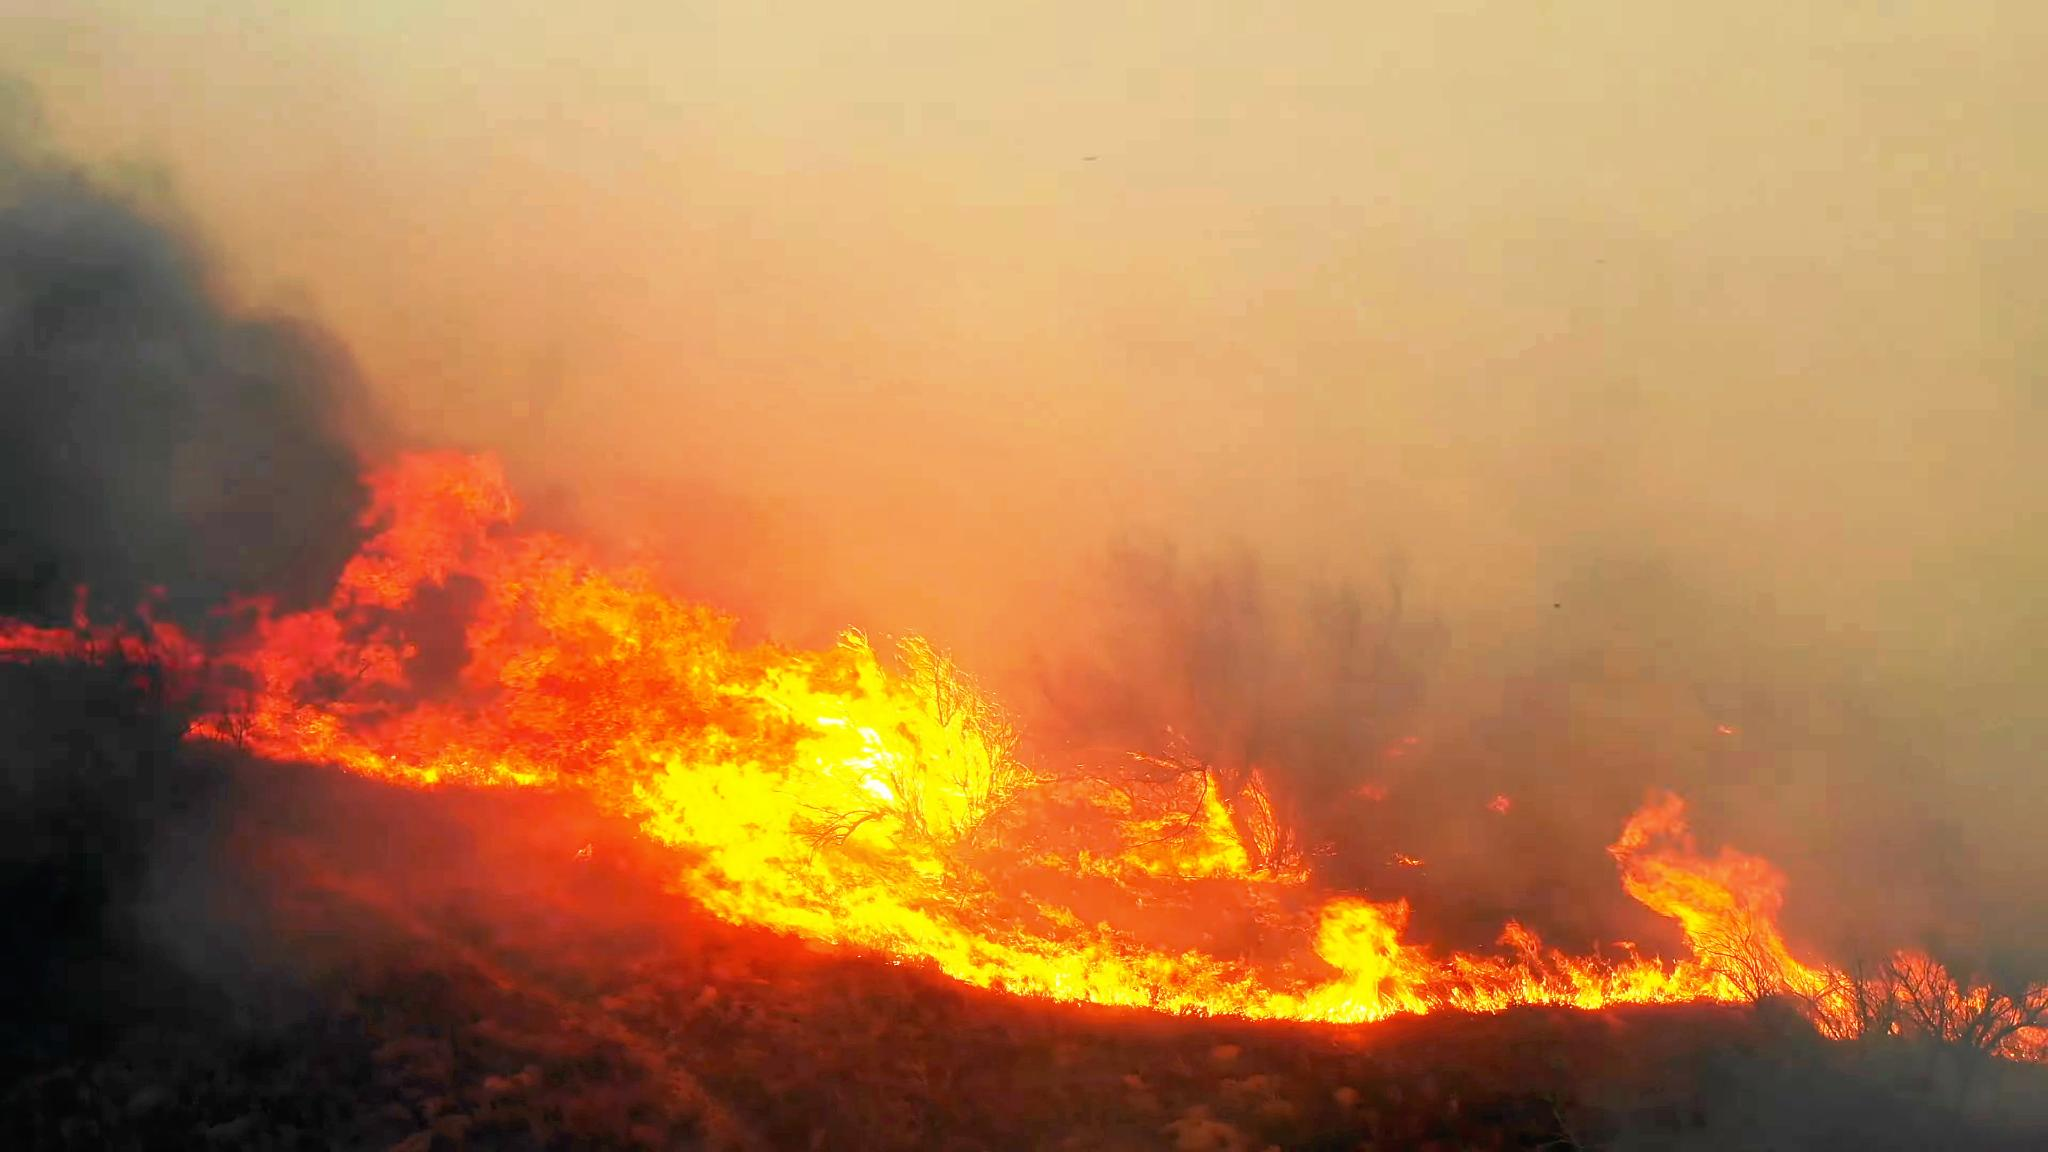fire: (338, 495, 992, 854), (688, 764, 1295, 958), (893, 892, 1428, 1024), (1557, 814, 1813, 986)
